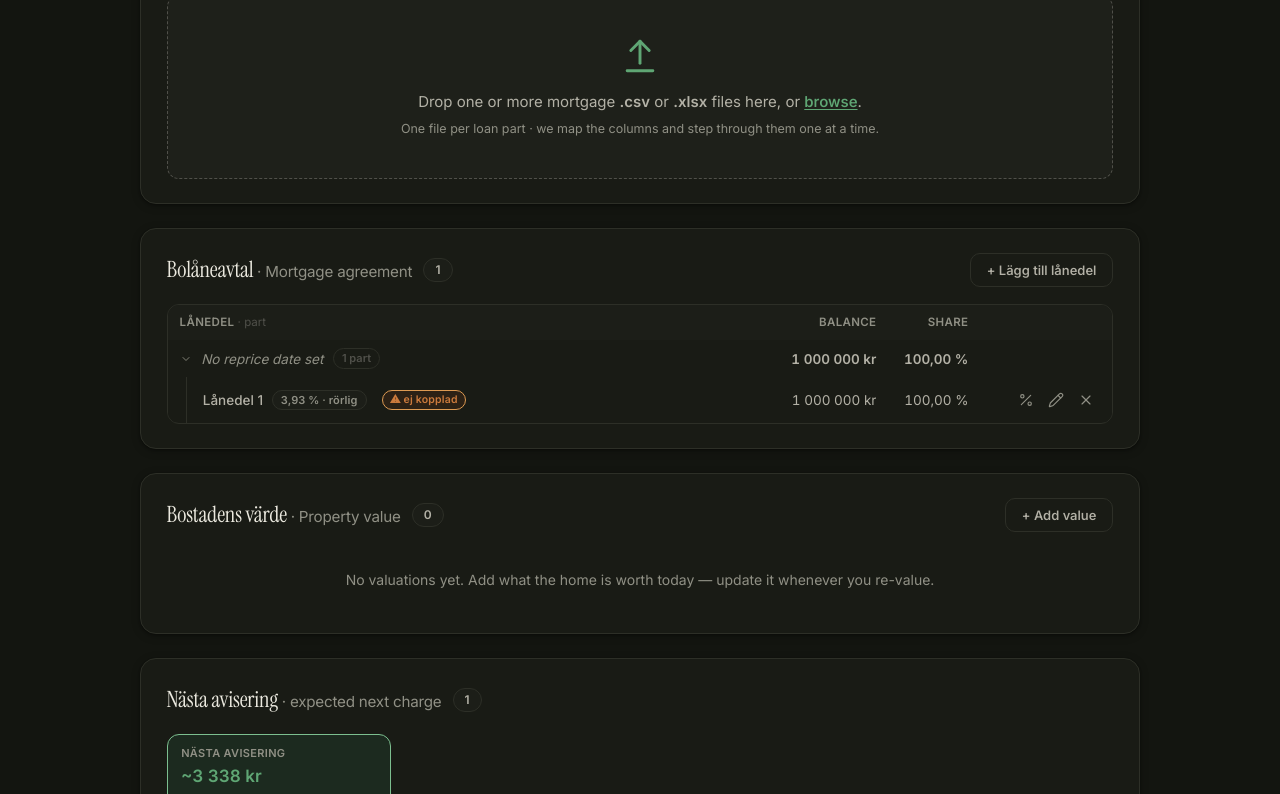
Test case: Bolanekoll — one-click Ny räntesats (plan 127 §2) › opens the standalone create dialog for that part in one click
(page scrolled)
What coordinates should you click on to do the following:
click the button named "Ny räntesats"
I would click on:
 (1026, 400)
Its box is [1012,386,1040,414].
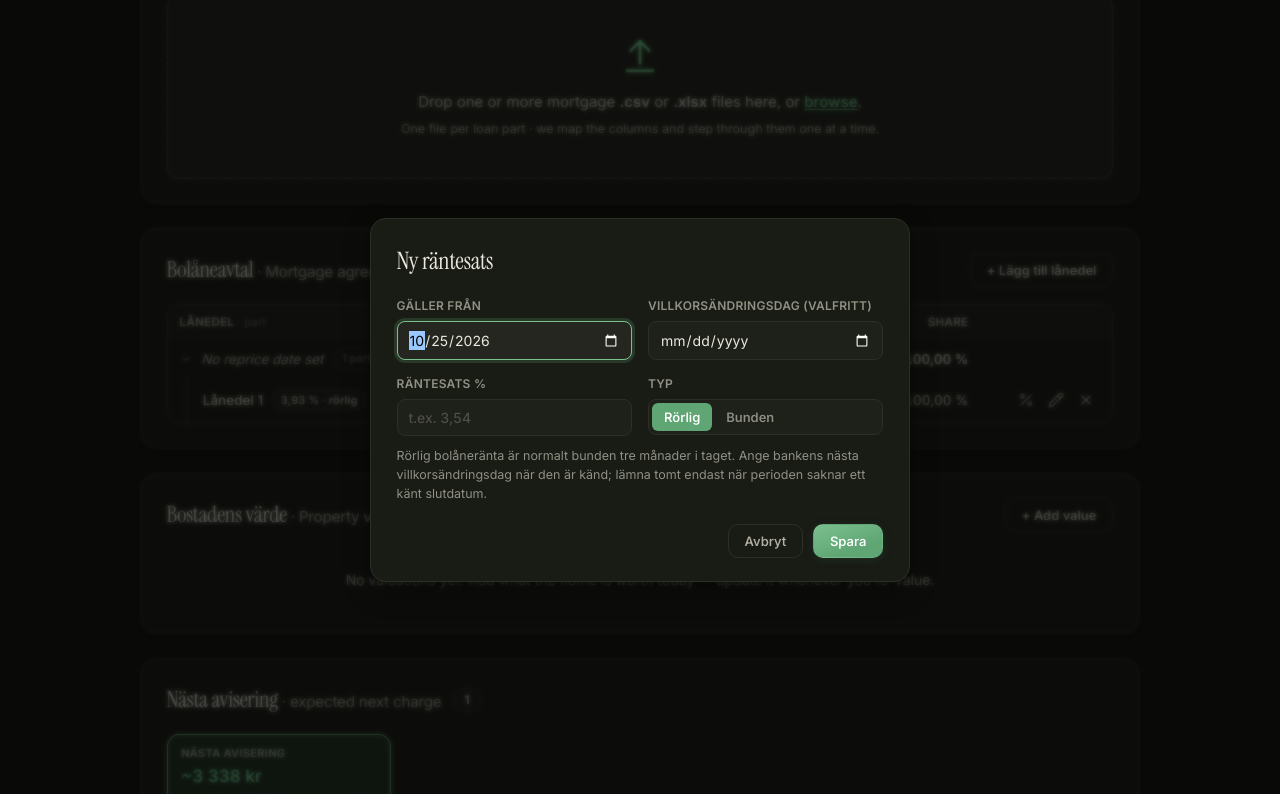
Expected: the field labelled "Räntesats %" is empty, [397,399,632,436]
Expected: the number of dialogs is 1, [370,218,910,582]
